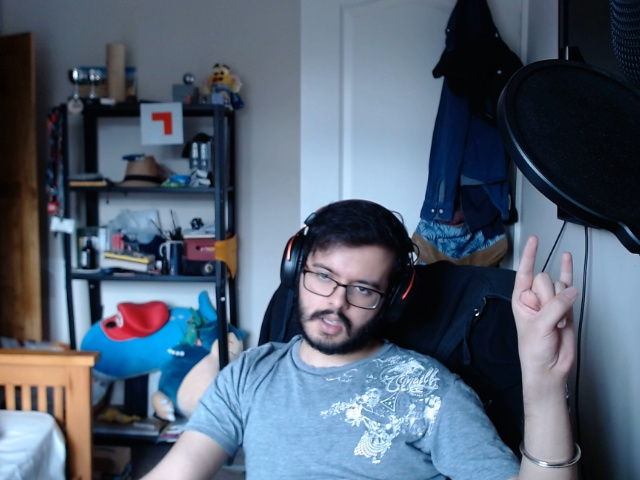Rock on: (499, 226, 589, 389)
